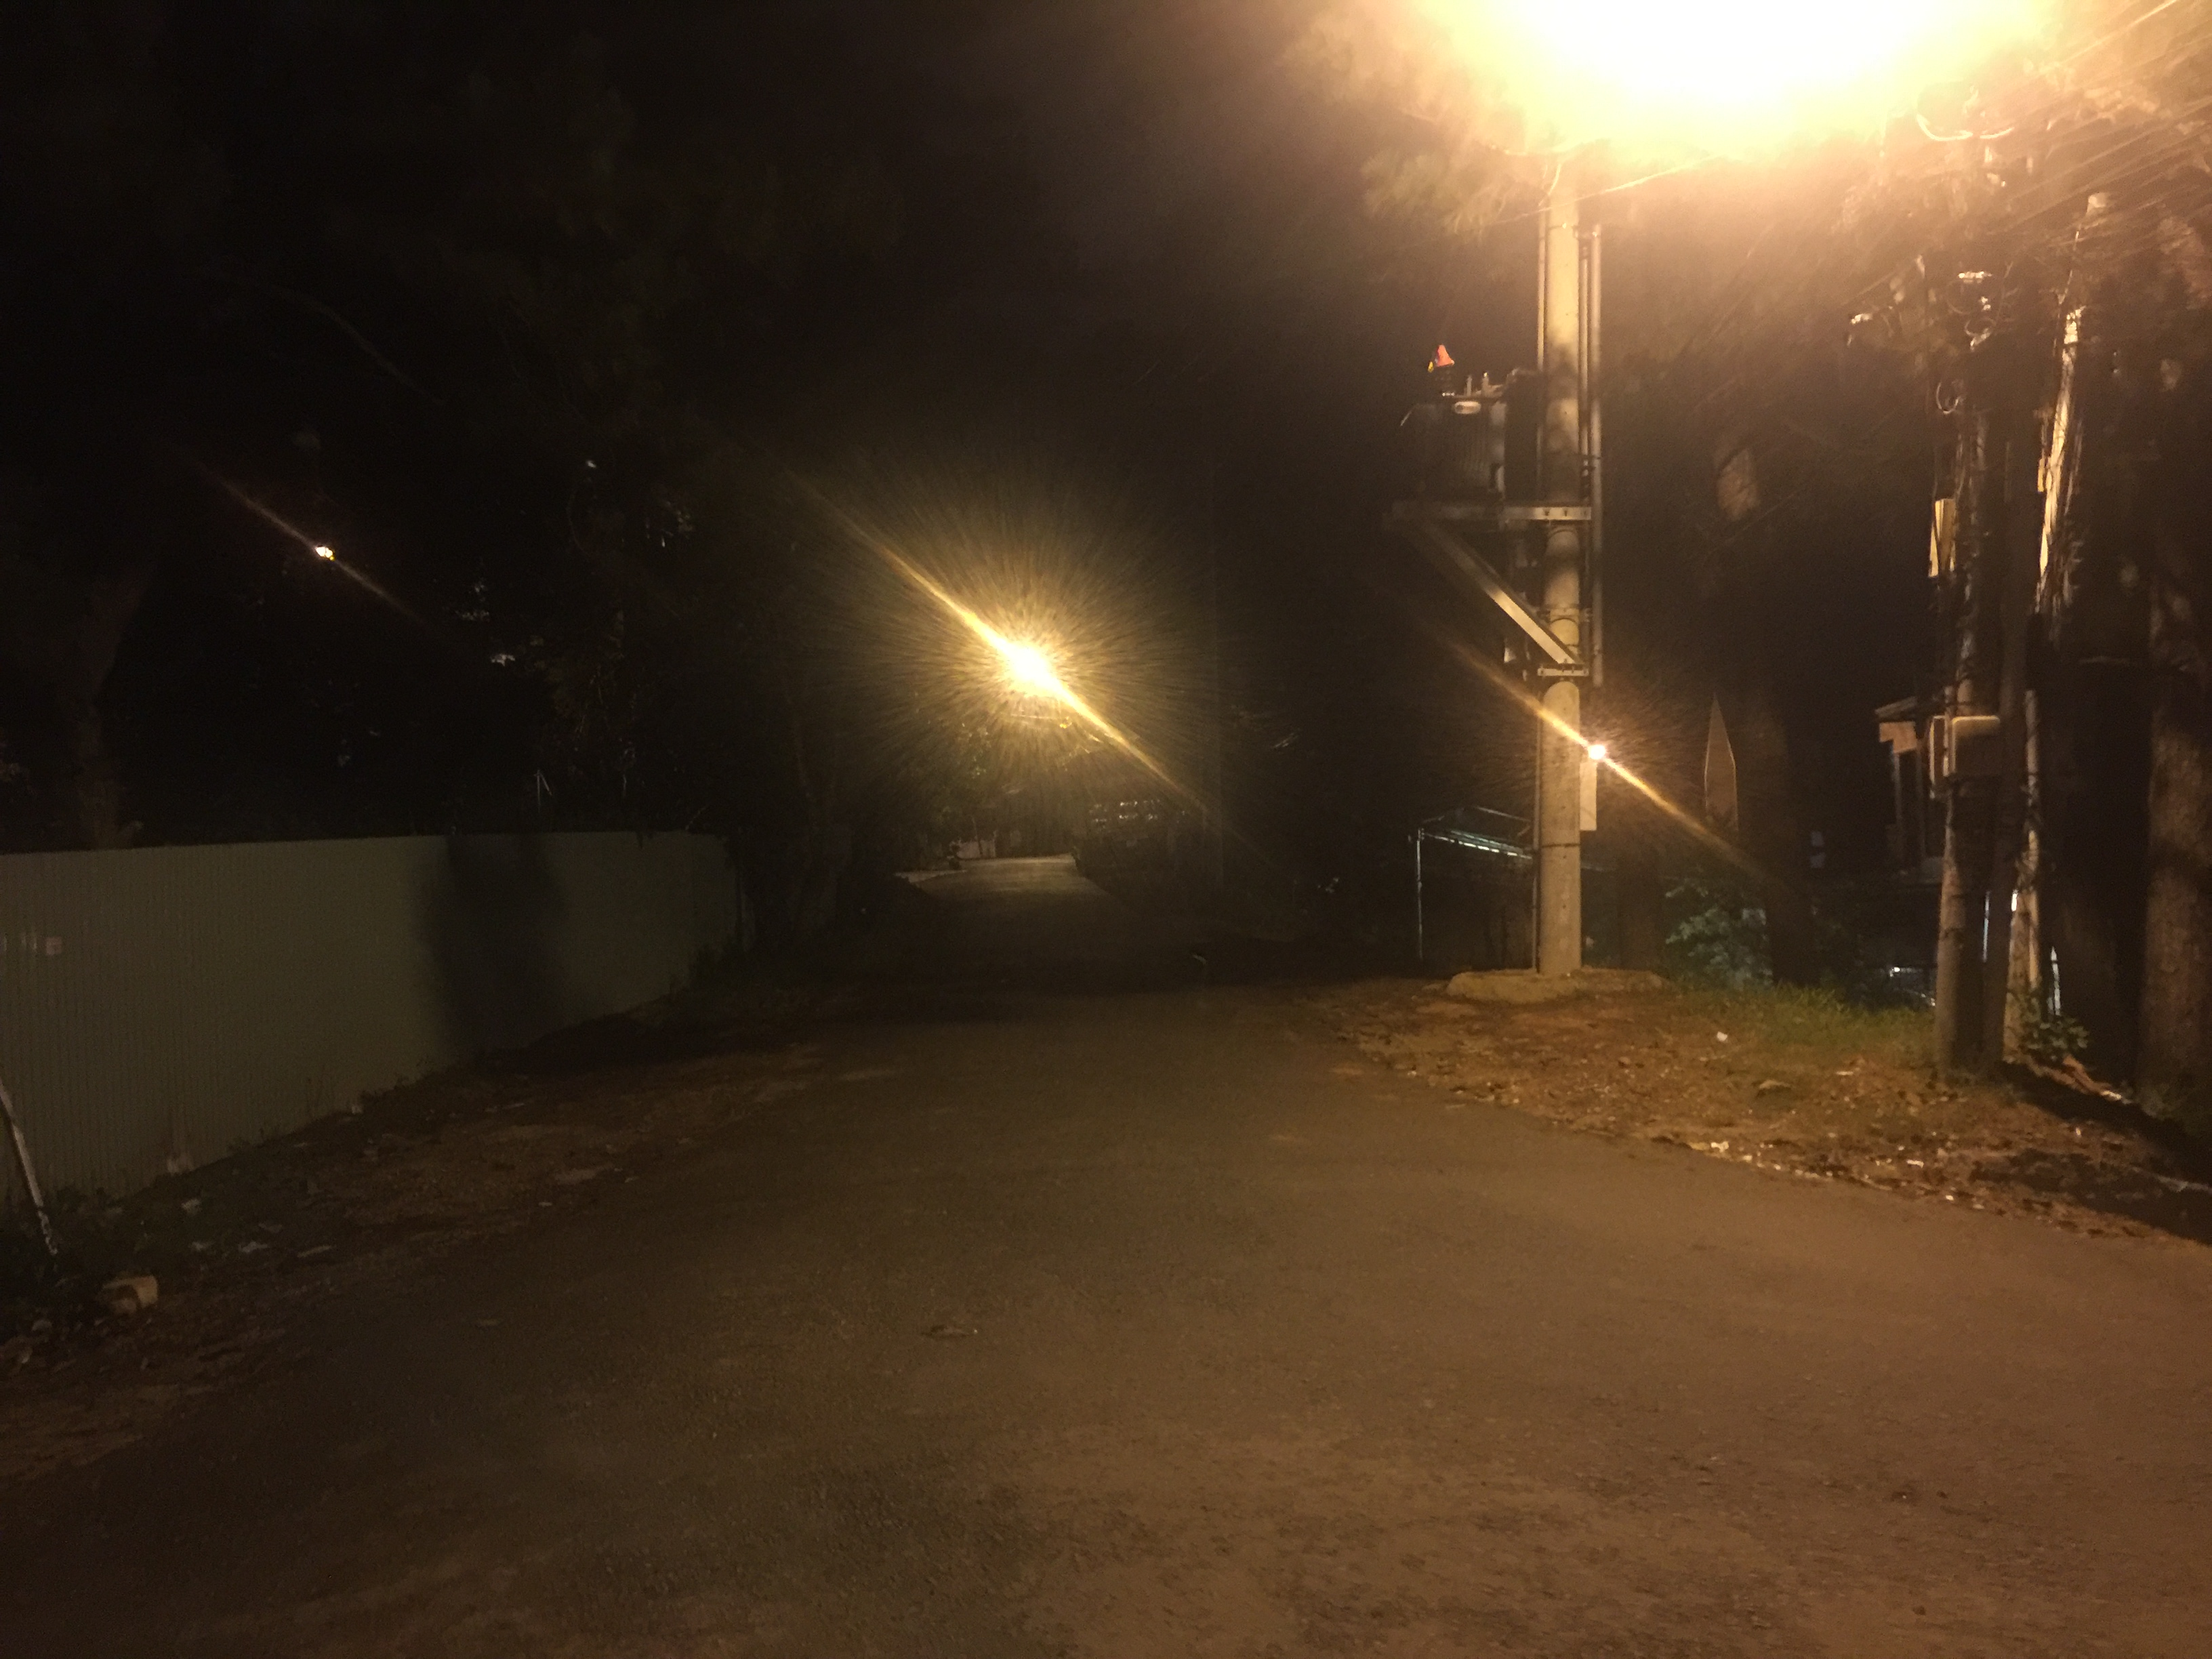hole: (927, 1328, 975, 1342)
